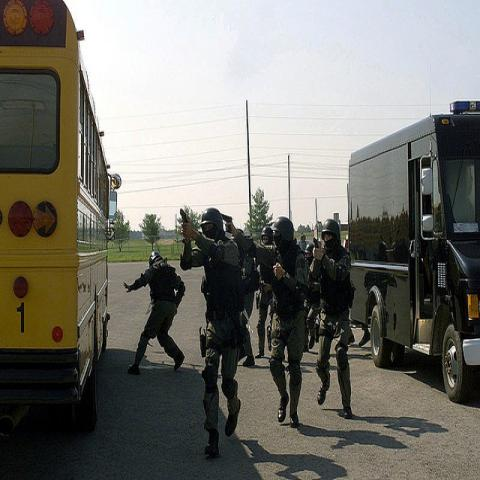bus: (0, 1, 123, 427)
truck: (348, 99, 479, 406)
